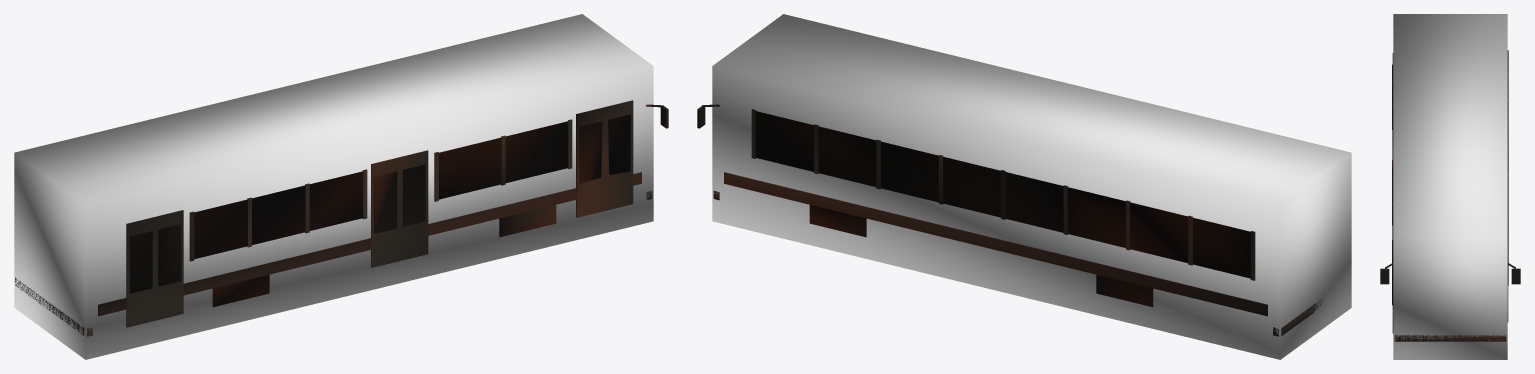
Rendered from autobus_quemado.glb.
3 views of the same model, side by side, from view 1: azimuth 30°, elevation 25°; view 2: azimuth 150°, elevation 25°; view 3: azimuth 270°, elevation 25° (orthographic). The views are drawn at different scales.
Visible parts, largest first — view 1: autobus_quemado-colcaja, autobus_quemado; view 2: autobus_quemado-colcaja, autobus_quemado; view 3: autobus_quemado-colcaja, autobus_quemado.
Part boxes in pixels (bbox=[...]): autobus_quemado-colcaja: bbox=[14, 14, 653, 359]; autobus_quemado: bbox=[15, 100, 668, 336]; autobus_quemado-colcaja: bbox=[712, 14, 1351, 359]; autobus_quemado: bbox=[697, 104, 1322, 336]; autobus_quemado-colcaja: bbox=[1393, 14, 1507, 359]; autobus_quemado: bbox=[1380, 50, 1520, 341].
Bounding box in the file's own units: 11.64 × 3 × 3.08.
